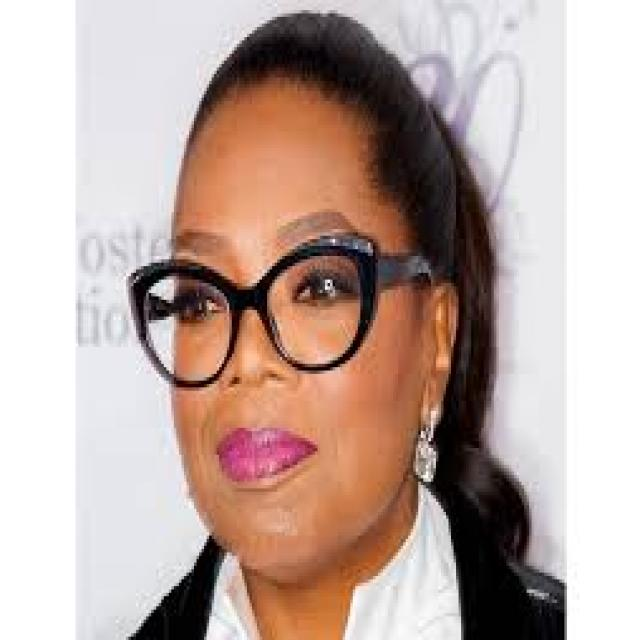Glasses: (123, 229, 441, 391)
